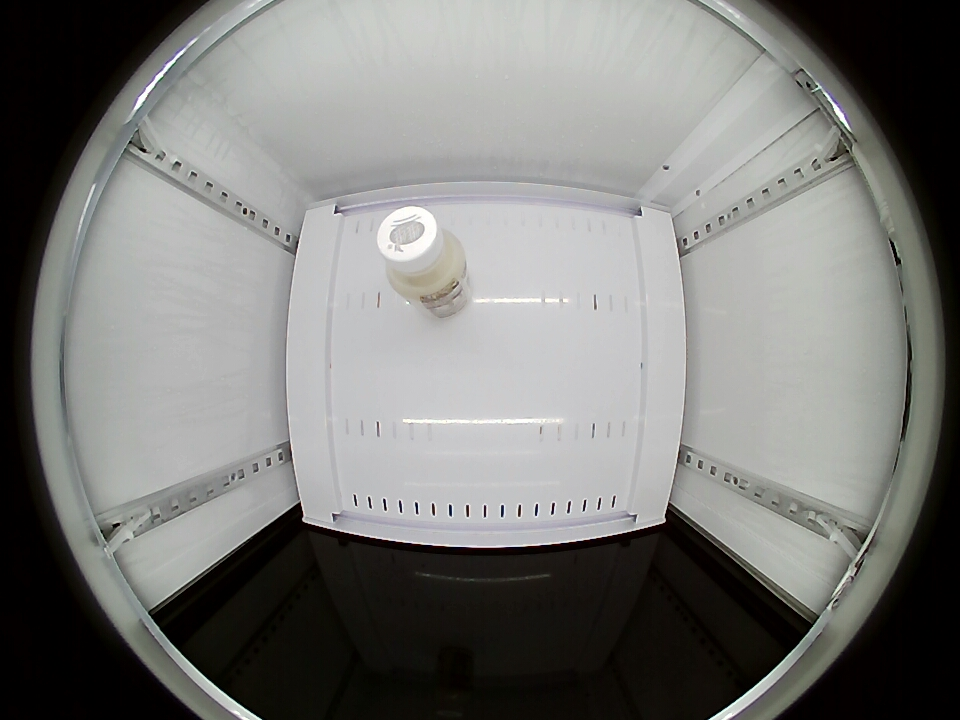weiweidounai: (376, 205, 468, 300)
